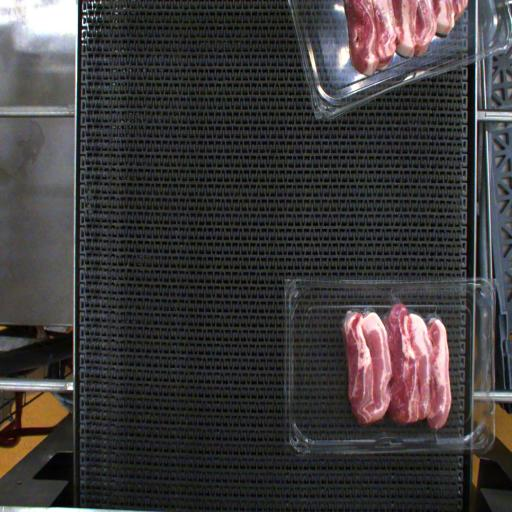packaging-error: (385, 282, 405, 306)
unsealed: (335, 302, 454, 332)
